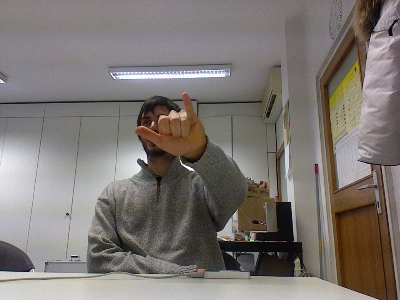六六六: (134, 91, 207, 157)
